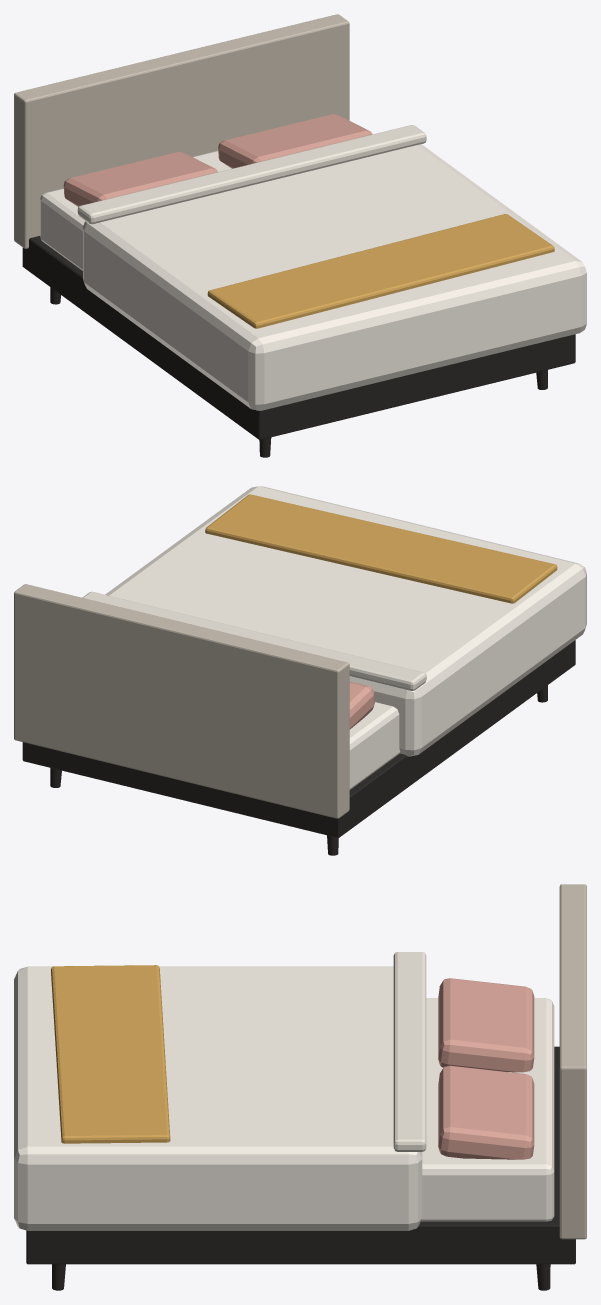
File: bed.glb
The picture shows the model from 3 angles, top to bottom: view 1: azimuth 30°, elevation 25°; view 2: azimuth 150°, elevation 25°; view 3: azimuth 270°, elevation 25°; orthographic projection. The views are drawn at different scales.
Visible parts, largest first — view 1: bed; view 2: bed; view 3: bed.
Boxes of the visible parts, <box> form: bed: <box>14,14,586,457</box>; bed: <box>14,486,586,855</box>; bed: <box>14,884,586,1290</box>.
Bounding box in the file's own units: 1.66 × 0.951 × 2.11.
